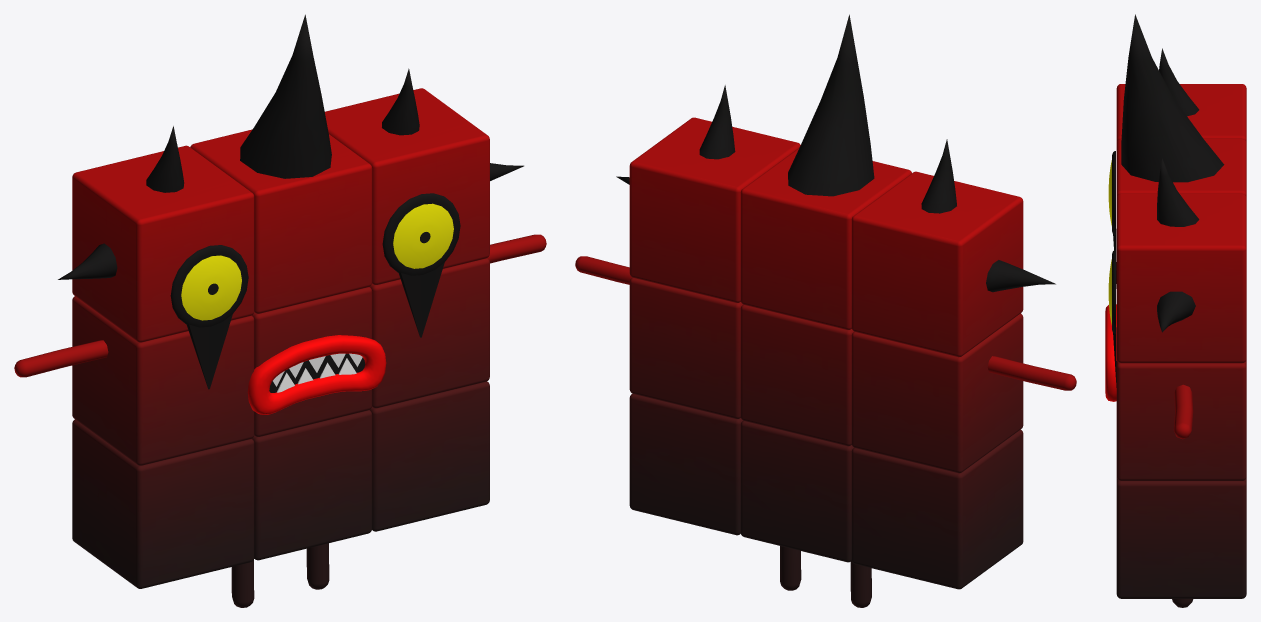
File: mons9.fbx
The picture shows the model from 3 angles, left to right: view 1: azimuth 30°, elevation 25°; view 2: azimuth 150°, elevation 25°; view 3: azimuth 270°, elevation 25°; orthographic projection. The views are drawn at different scales.
Visible parts, largest first — view 1: mons9; view 2: mons9; view 3: mons9.
Part boxes in pixels (x1,y1,x2,y2): mons9: (14,14,546,607); mons9: (575,14,1076,607); mons9: (1105,14,1246,607).
Size of the model in its own units: 449 by 488 by 109.
1 material, 1 textured.
